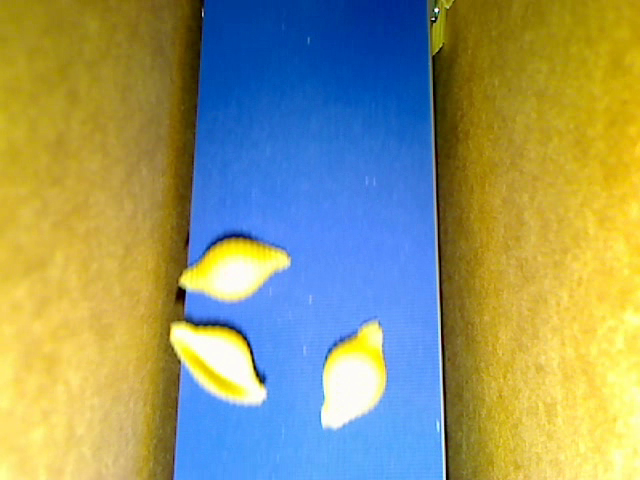penne: (429, 1, 447, 58), (441, 1, 454, 10)
shell: (168, 321, 267, 404), (176, 234, 287, 306), (320, 317, 384, 427)
